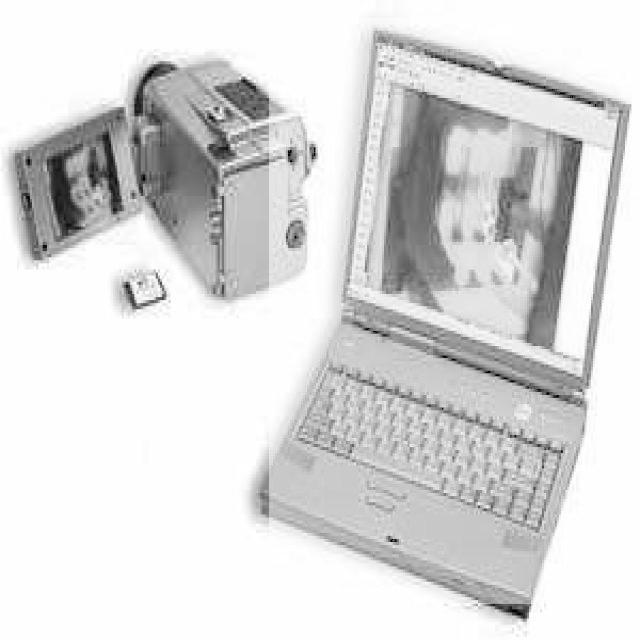-keyboard-: (269, 18, 640, 604)
